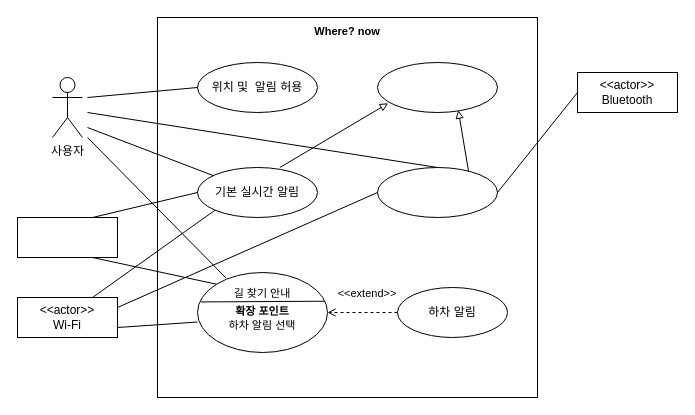
The diagram is 695 pixels wide and 415 high, and some of its shapes have lost their labels. The shapes that lost their labels are listed below. From the top down, each one's box as (x1, y1, x2, y2) in pixels, then its label:
(376, 62, 498, 112): 실시간 알림
(376, 166, 498, 218): 블루투스 실시간 알림
(16, 216, 118, 258): <<actor>> GPS
